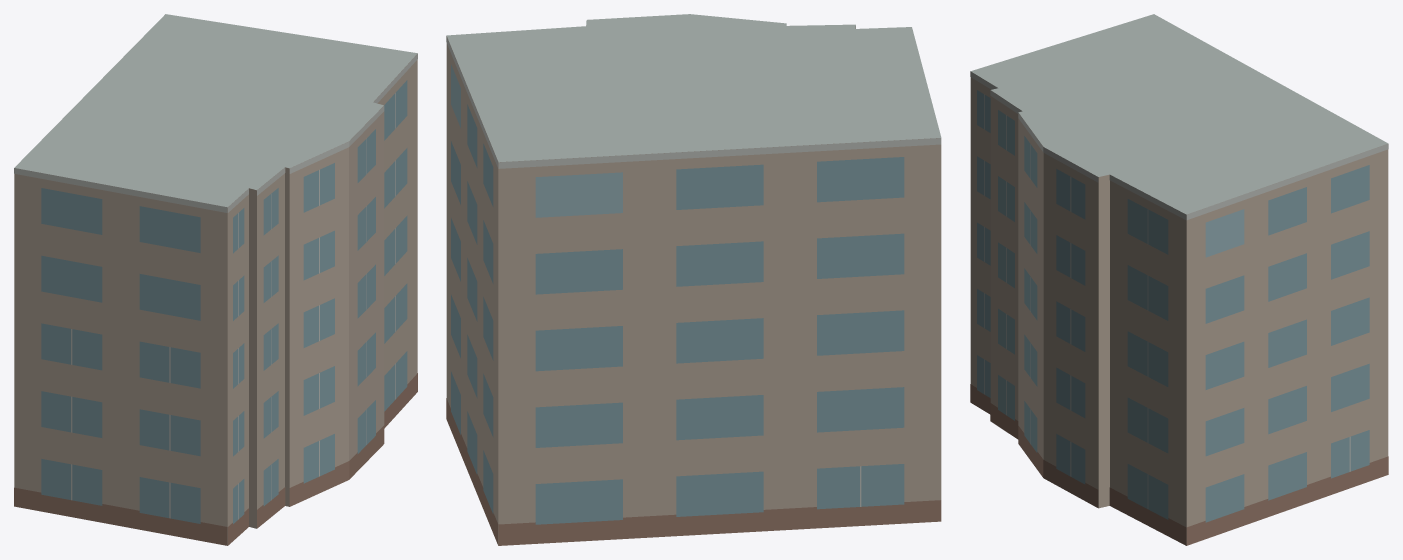
Rendered from survey-upis-32930086.glb.
3 renders of one model, left to right at view 1: azimuth 30°, elevation 25°; view 2: azimuth 150°, elevation 25°; view 3: azimuth 270°, elevation 25°, orthographic. The views are drawn at different scales.
Parts seen in each view (by area): view 1: survey-upis-32930086.tmp; view 2: survey-upis-32930086.tmp; view 3: survey-upis-32930086.tmp.
Boxes of the visible parts, bbox=[...] form: survey-upis-32930086.tmp: bbox=[14, 14, 417, 545]; survey-upis-32930086.tmp: bbox=[446, 14, 941, 545]; survey-upis-32930086.tmp: bbox=[970, 14, 1388, 545].
Bounding box in the file's own units: 18.22 × 14.02 × 16.04.
